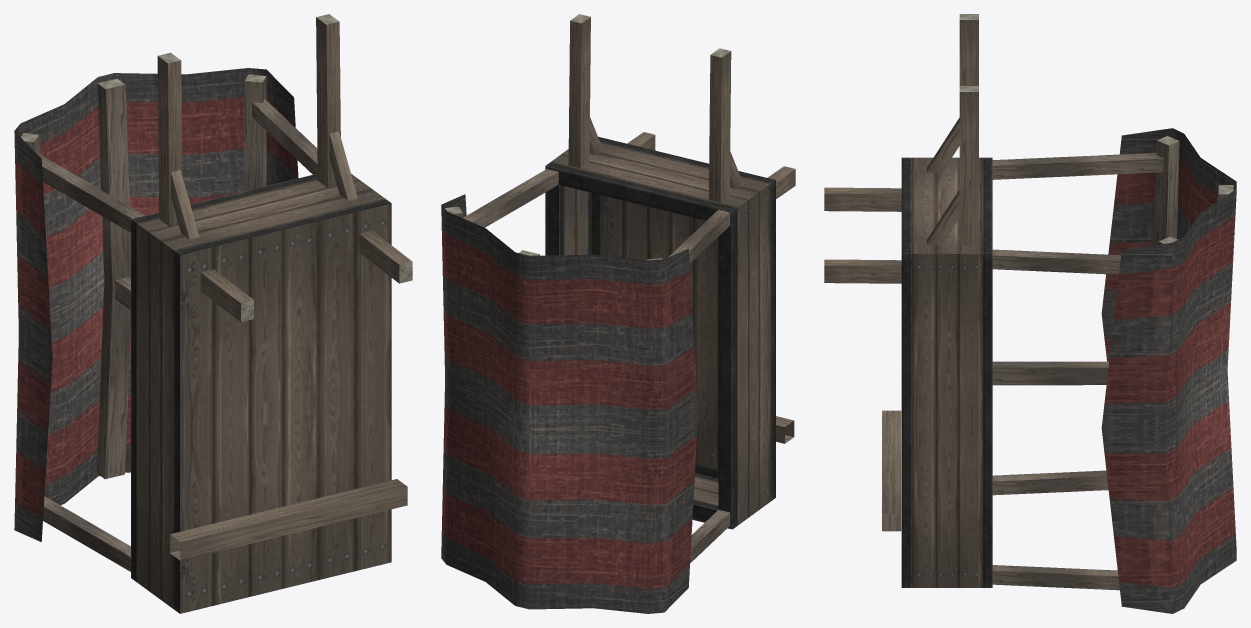
The model's file is Cart_Covered_B.fbx.
The picture shows the model from 3 angles, left to right: view 1: azimuth 30°, elevation 25°; view 2: azimuth 150°, elevation 25°; view 3: azimuth 270°, elevation 25°; orthographic projection. The views are drawn at different scales.
Visible parts, largest first — view 1: Cart_Covered_B; view 2: Cart_Covered_B; view 3: Cart_Covered_B.
Boxes of the visible parts, <box> form: Cart_Covered_B: <box>14,14,412,613</box>; Cart_Covered_B: <box>441,14,795,613</box>; Cart_Covered_B: <box>824,14,1236,613</box>.
Bounding box in the file's own units: 2.78 × 5.69 × 4.23.
